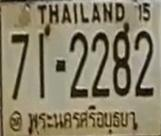1: (39, 33, 45, 99)
2: (134, 30, 153, 95), (70, 32, 89, 97), (91, 32, 109, 96)
7: (10, 33, 29, 100)
8: (112, 31, 130, 96)
AYA: (25, 103, 138, 135)
